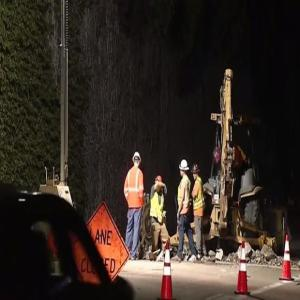blue: (193, 163, 200, 181)
red: (156, 176, 164, 192)
white: (180, 159, 188, 176), (134, 151, 141, 168)
